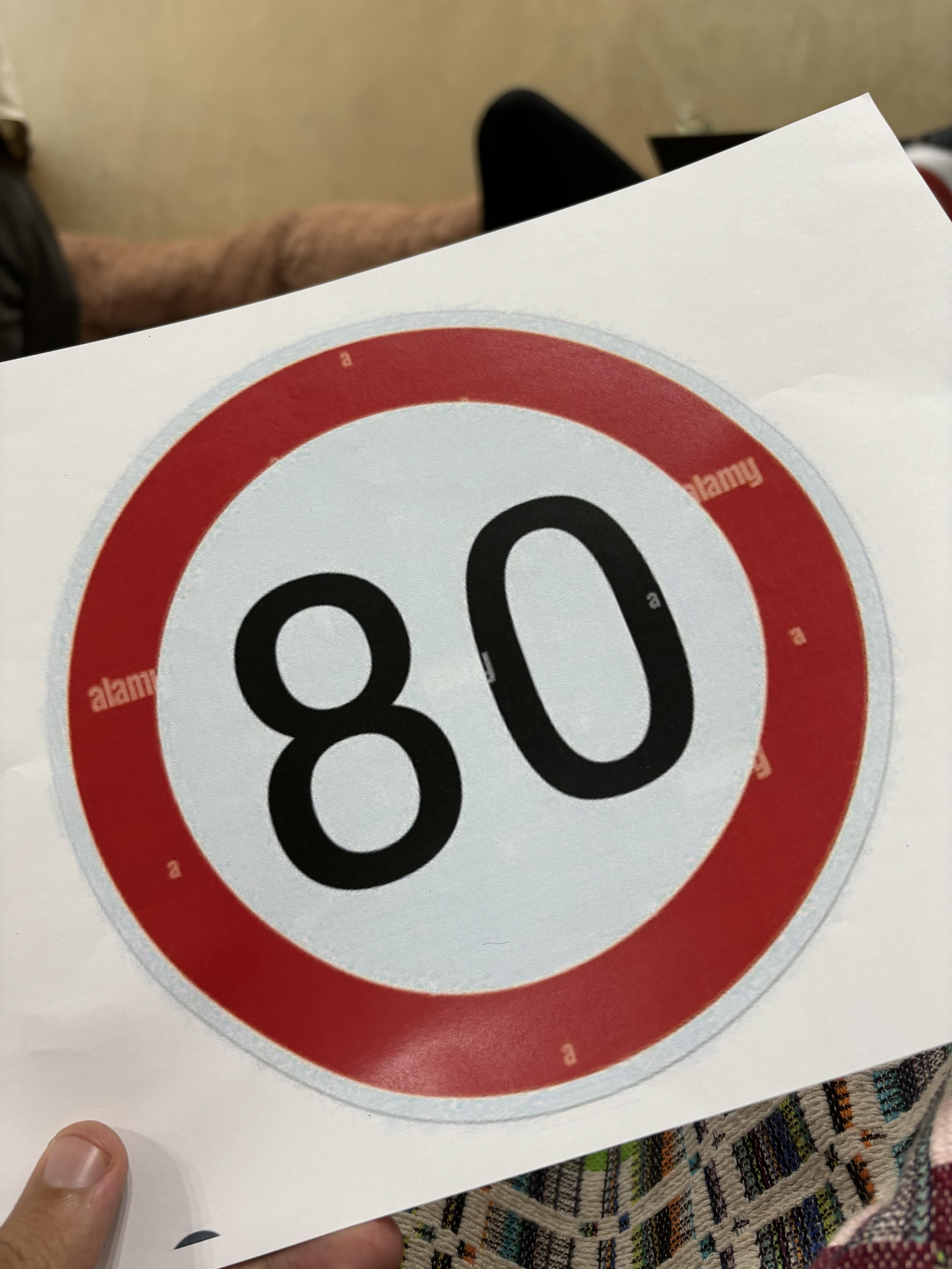80-Speed: (45, 303, 902, 1132)
